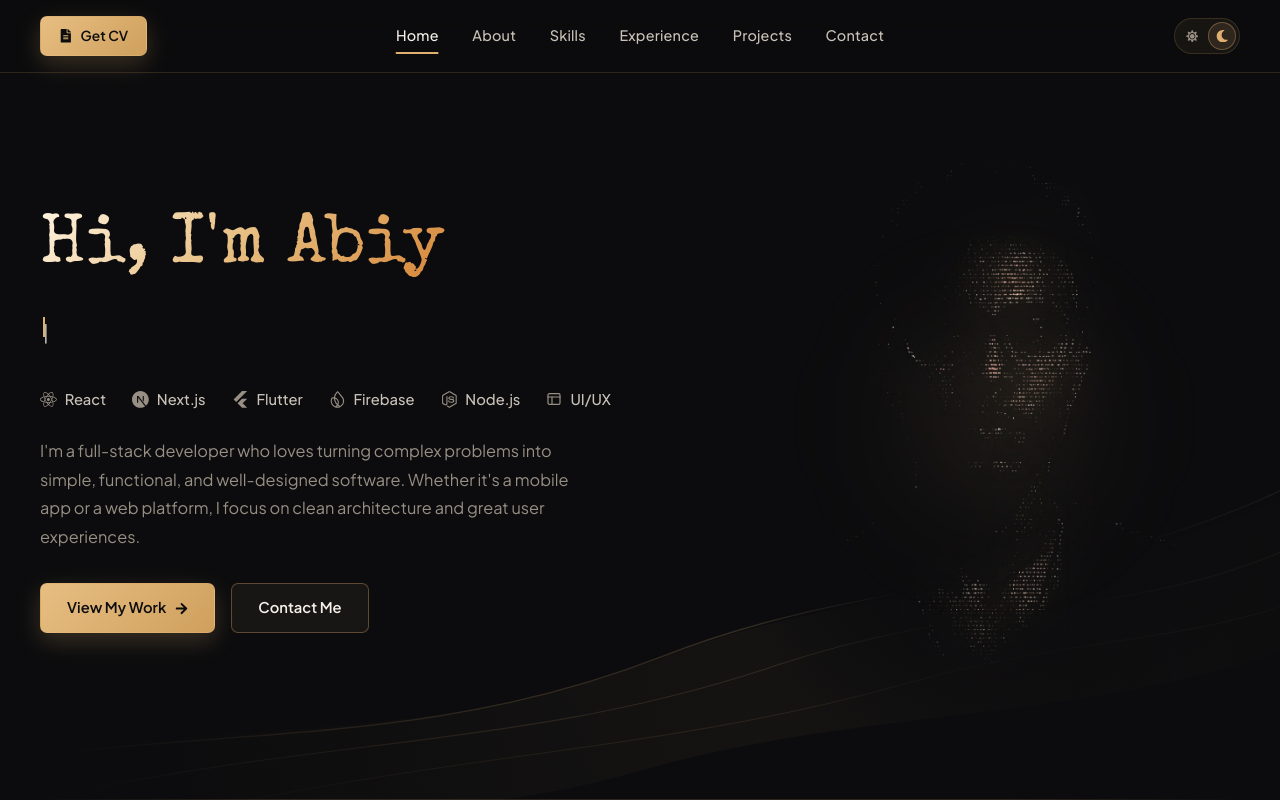
Test: Portfolio App › toggles color theme and switches experience timeline roles
This screenshot has width=1280, height=800.
Click the button named "Switch to light theme".
click(1192, 36)  # box [1178,22,1206,50]
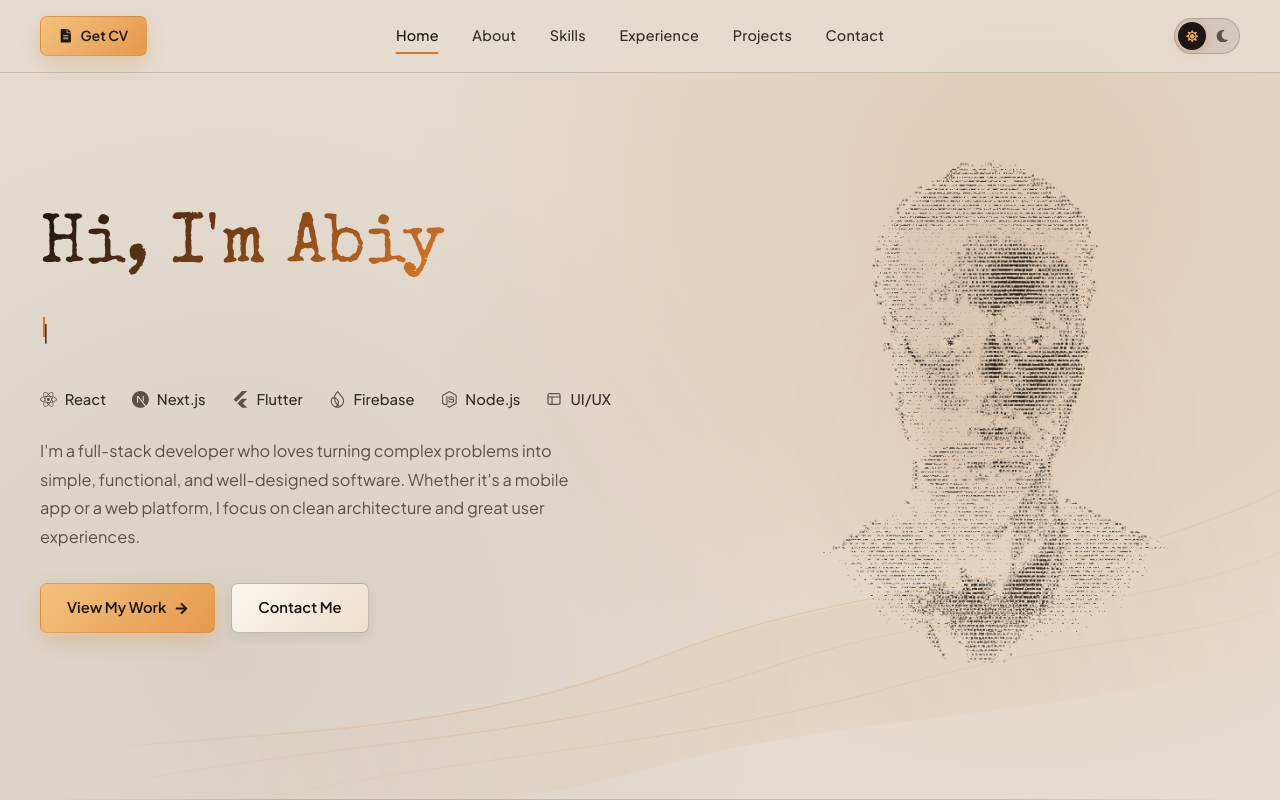
Click the button named "Switch to dark theme".
click(1222, 36)  # box [1208,22,1236,50]
(page scrolled)
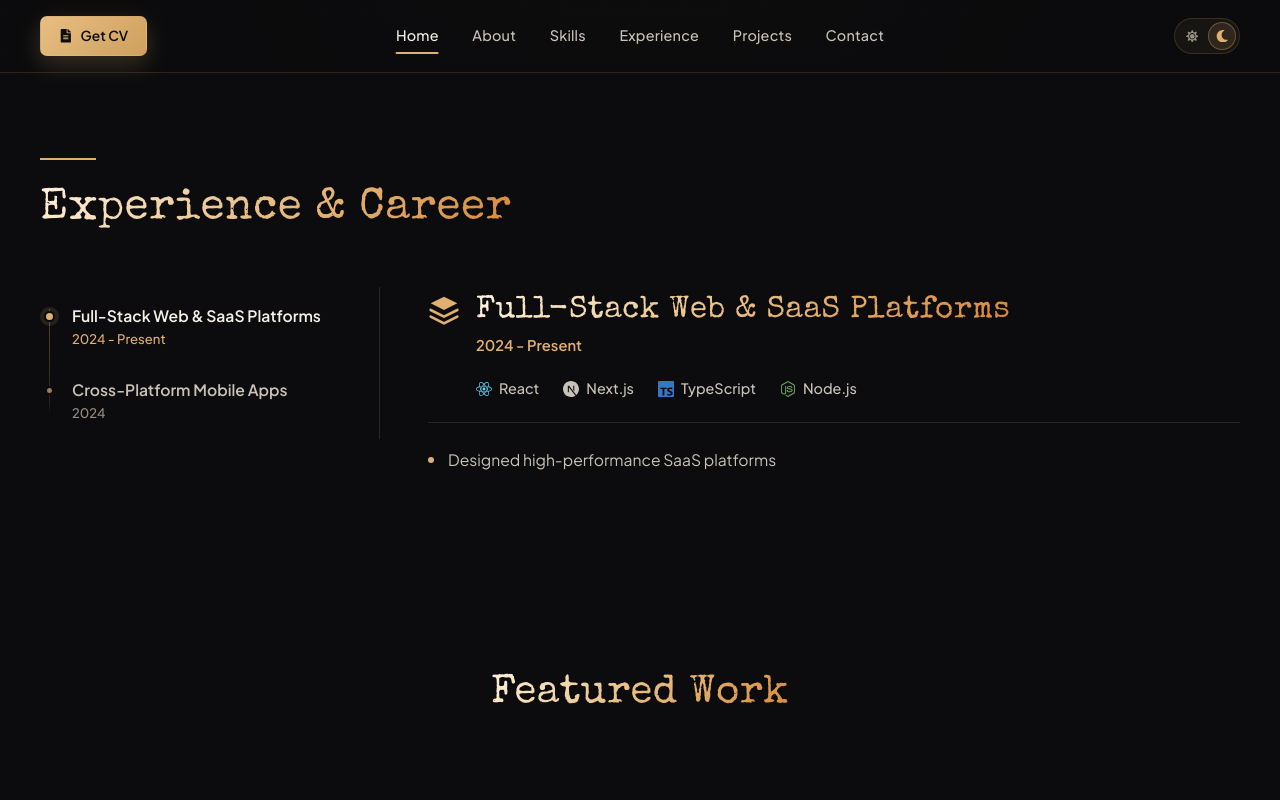
Click the tab "Cross-Platform Mobile Apps 2024".
click(196, 400)  # box [40,367,351,433]
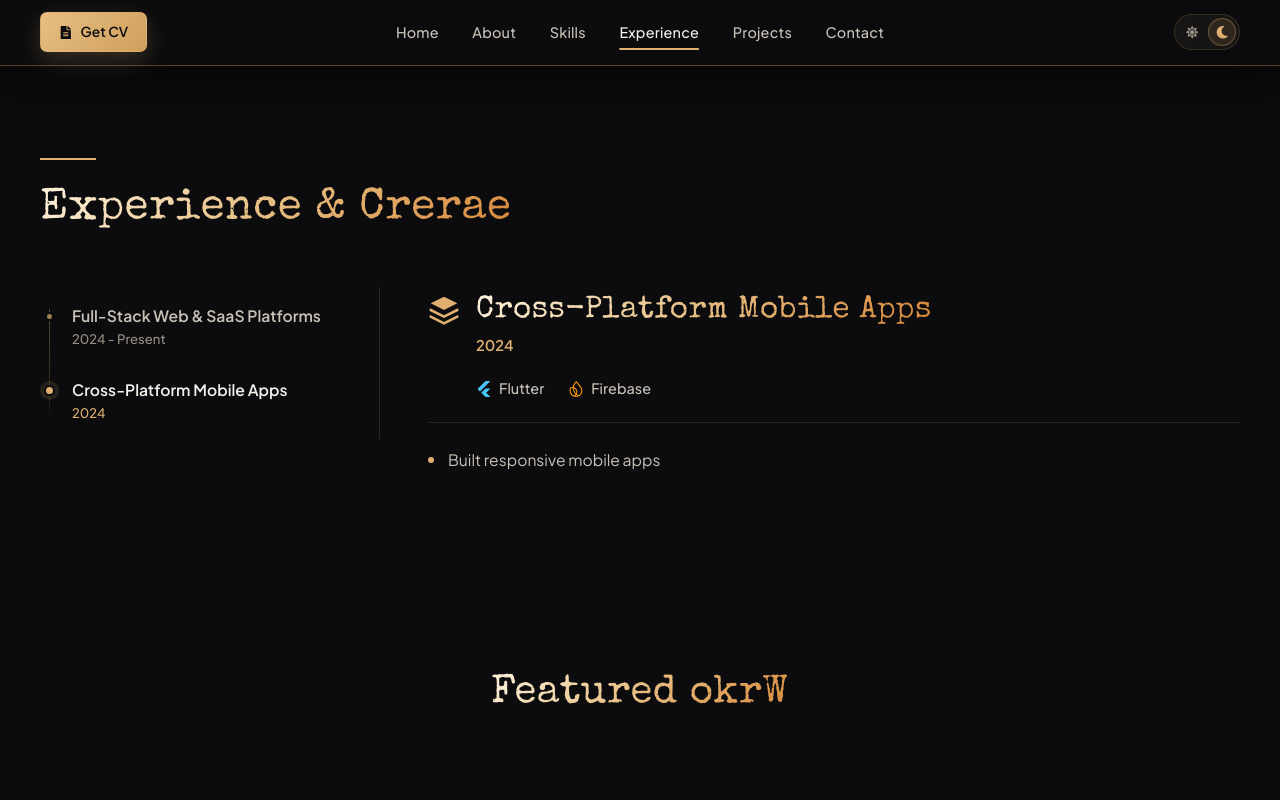
expect the text "Built responsive mobile apps" is shown: met, box [448,450,660,470]
